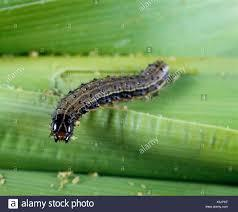fallarmy_worm: (43, 59, 179, 145)
